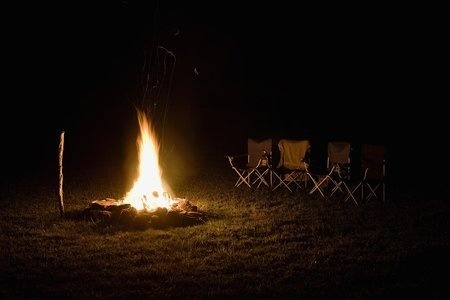fire: (121, 110, 175, 212)
